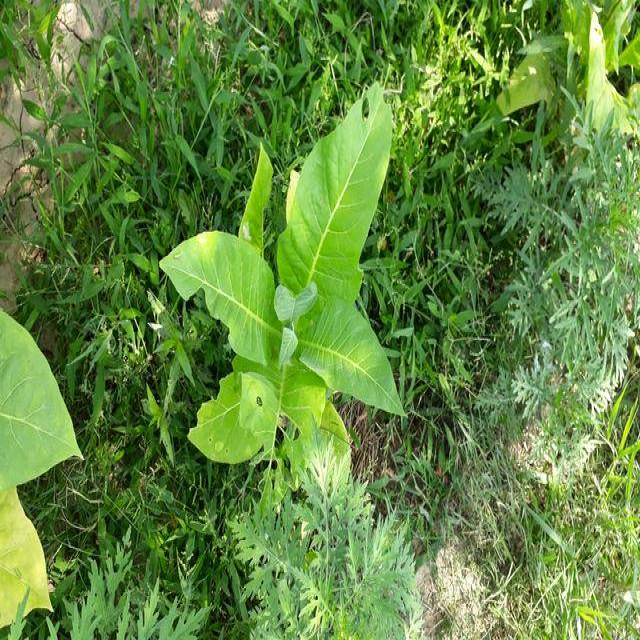crop: (183, 96, 404, 484)
